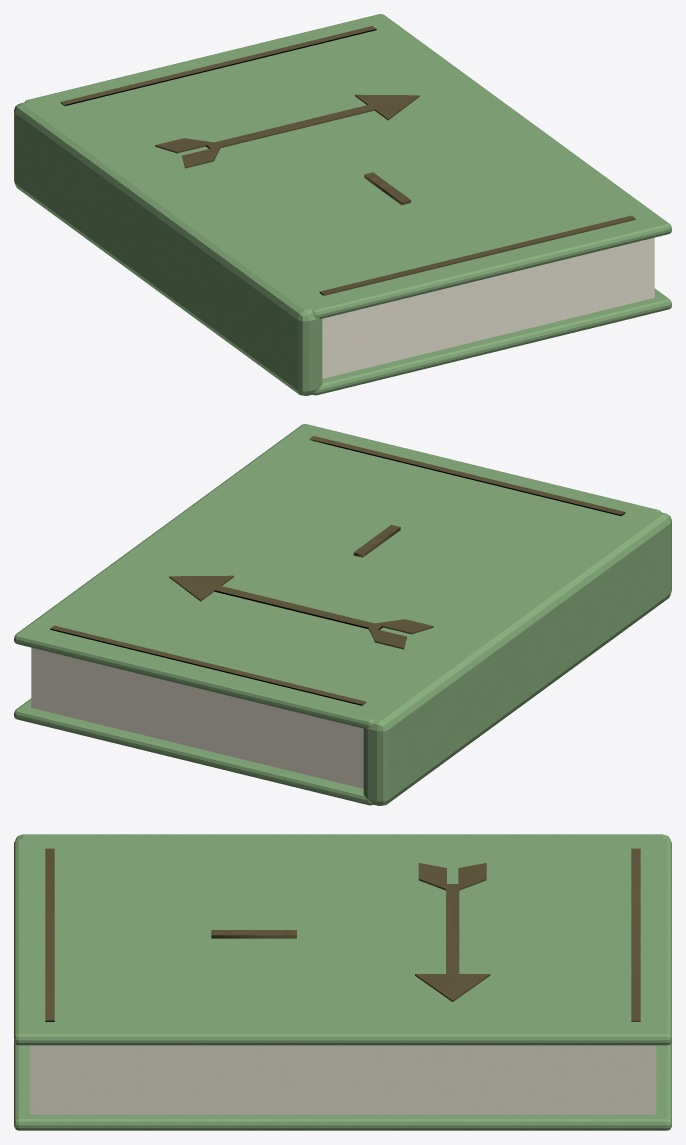
The model's file is FL_BookArchery1.fbx.
3 renders of one model, top to bottom at view 1: azimuth 30°, elevation 25°; view 2: azimuth 150°, elevation 25°; view 3: azimuth 270°, elevation 25°, orthographic. The views are drawn at different scales.
Visible parts, largest first — view 1: FL_BookArchery1; view 2: FL_BookArchery1; view 3: FL_BookArchery1.
Part boxes in pixels (x1,y1,x2,y2): FL_BookArchery1: (14,14,671,395); FL_BookArchery1: (14,424,671,805); FL_BookArchery1: (14,834,671,1130).
Bounding box in the file's own units: 0.0129 × 0.00295 × 0.0175.
